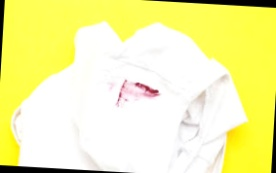lipstick: (116, 77, 161, 111)
